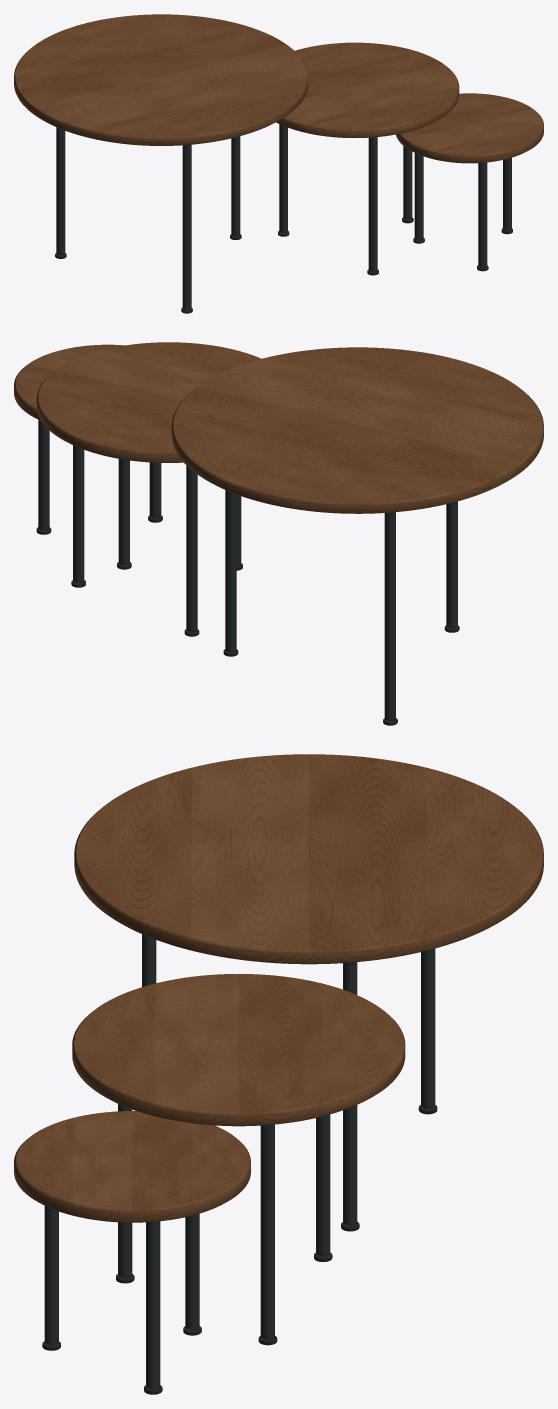
3 views of the same model, one above another, from view 1: azimuth 30°, elevation 25°; view 2: azimuth 150°, elevation 25°; view 3: azimuth 270°, elevation 25° (orthographic). The views are drawn at different scales.
Parts seen in each view (by area): view 1: Nesting table 1 walnut top, Nesting table 2 walnut top, Nesting table 3 walnut top, Nesting table 1 steel leg.002, Nesting table 2 steel leg.002, Nesting table 1 steel leg.001, Nesting table 3 steel leg.002, Nesting table 1 steel leg, Nesting table 2 steel leg.001, Nesting table 3 steel leg.001, Nesting table 2 steel leg, Nesting table 3 steel leg; view 2: Nesting table 1 walnut top, Nesting table 2 walnut top, Nesting table 1 steel leg.001, Nesting table 3 walnut top, Nesting table 2 steel leg.001, Nesting table 1 steel leg, Nesting table 2 steel leg, Nesting table 1 steel leg.002, Nesting table 3 steel leg, Nesting table 3 steel leg.001, Nesting table 3 steel leg.002; view 3: Nesting table 1 walnut top, Nesting table 2 walnut top, Nesting table 3 walnut top, Nesting table 2 steel leg, Nesting table 3 steel leg, Nesting table 1 steel leg.001, Nesting table 1 steel leg, Nesting table 2 steel leg.001, Nesting table 3 steel leg.002, Nesting table 3 steel leg.001, Nesting table 2 steel leg.002.
Part boxes in pixels (bbox=[...]): Nesting table 1 walnut top: bbox=[14, 14, 308, 145]; Nesting table 2 walnut top: bbox=[276, 42, 459, 138]; Nesting table 3 walnut top: bbox=[396, 93, 543, 163]; Nesting table 1 steel leg.002: bbox=[182, 144, 191, 309]; Nesting table 2 steel leg.002: bbox=[368, 137, 377, 271]; Nesting table 1 steel leg.001: bbox=[56, 127, 65, 254]; Nesting table 3 steel leg.002: bbox=[478, 162, 487, 267]; Nesting table 1 steel leg: bbox=[231, 136, 240, 236]; Nesting table 2 steel leg.001: bbox=[279, 124, 287, 232]; Nesting table 3 steel leg.001: bbox=[414, 153, 423, 239]; Nesting table 2 steel leg: bbox=[403, 146, 412, 219]; Nesting table 3 steel leg: bbox=[503, 157, 511, 230]; Nesting table 1 walnut top: bbox=[171, 347, 543, 513]; Nesting table 2 walnut top: bbox=[36, 342, 261, 462]; Nesting table 1 steel leg.001: bbox=[384, 512, 395, 720]; Nesting table 3 walnut top: bbox=[14, 344, 124, 420]; Nesting table 2 steel leg.001: bbox=[186, 465, 197, 631]; Nesting table 1 steel leg: bbox=[225, 490, 236, 651]; Nesting table 2 steel leg: bbox=[73, 445, 84, 582]; Nesting table 1 steel leg.002: bbox=[446, 501, 457, 627]; Nesting table 3 steel leg: bbox=[38, 420, 49, 529]; Nesting table 3 steel leg.001: bbox=[118, 459, 129, 564]; Nesting table 3 steel leg.002: bbox=[149, 462, 161, 517]; Nesting table 1 walnut top: bbox=[74, 754, 543, 964]; Nesting table 2 walnut top: bbox=[72, 974, 405, 1126]; Nesting table 3 walnut top: bbox=[14, 1111, 250, 1222]; Nesting table 2 steel leg: bbox=[260, 1124, 274, 1338]; Nesting table 3 steel leg: bbox=[146, 1221, 160, 1388]; Nesting table 1 steel leg.001: bbox=[421, 948, 435, 1107]; Nesting table 1 steel leg: bbox=[343, 962, 357, 1225]; Nesting table 2 steel leg.001: bbox=[316, 1114, 330, 1255]; Nesting table 3 steel leg.002: bbox=[44, 1206, 58, 1344]; Nesting table 3 steel leg.001: bbox=[185, 1213, 199, 1329]; Nesting table 2 steel leg.002: bbox=[118, 1104, 132, 1277].
Bounding box in the file's own units: 1.14 × 0.472 × 0.738.
Materials: 4 (2 with a texture image).
